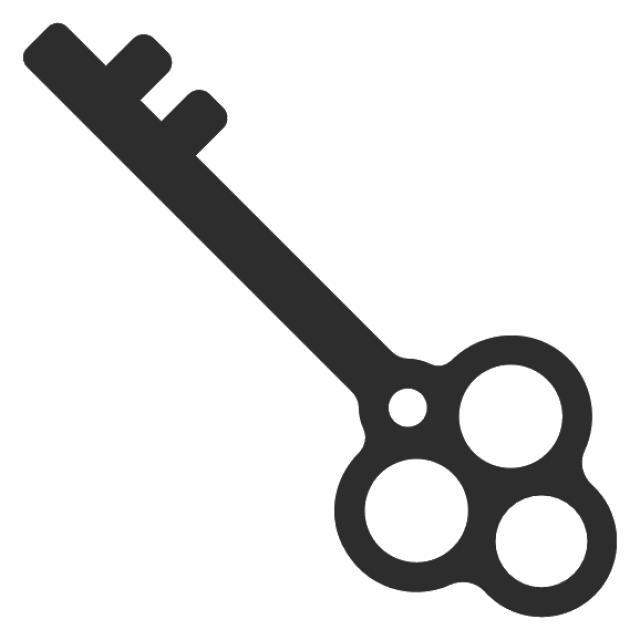key: (11, 18, 627, 634)
